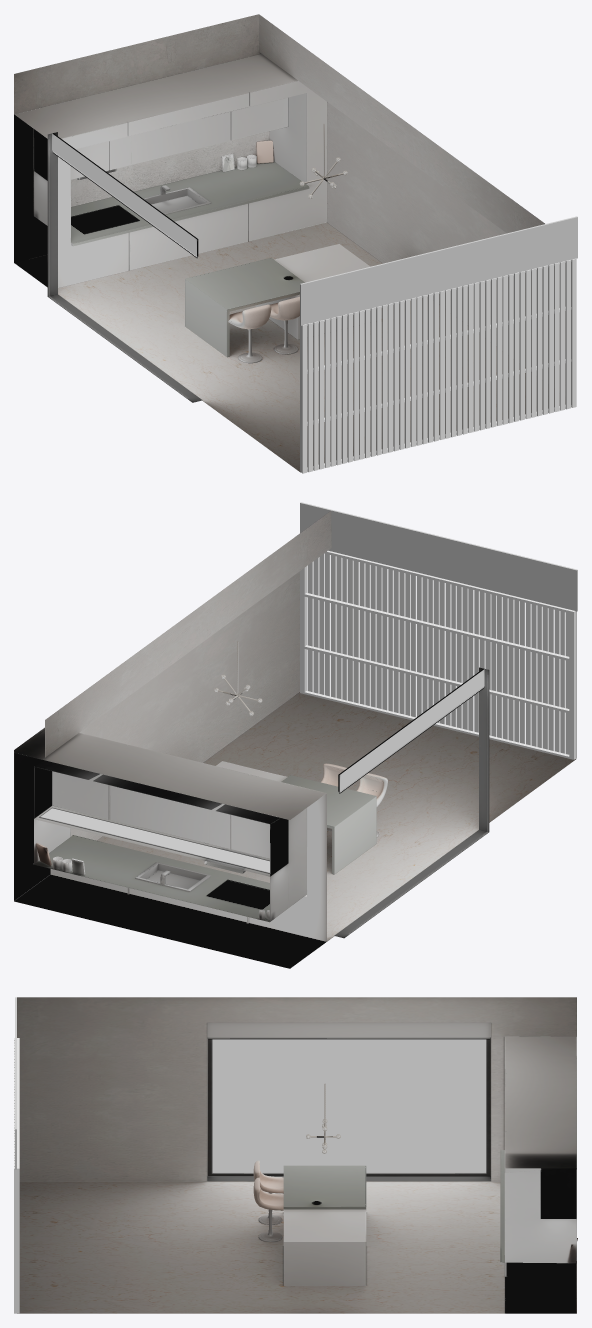
File: RoomLab.glb
3 views of the same model, one above another, from view 1: azimuth 30°, elevation 25°; view 2: azimuth 150°, elevation 25°; view 3: azimuth 270°, elevation 25° (orthographic). The views are drawn at different scales.
Visible parts, largest first — view 1: Small Modern Kitchen, Cube.006, Cube.007; view 2: Small Modern Kitchen, Cube.006, Cube.007, Cube.004, Cube.005, Cube, Cube.002, Cube.001, Cube.003; view 3: Small Modern Kitchen, Cube.003, Cube.006.
Part boxes in pixels (left/top/right/bottom): Small Modern Kitchen: left=14, top=14, right=565, bottom=472; Cube.006: left=302, top=258, right=576, bottom=473; Cube.007: left=300, top=216, right=577, bottom=325; Small Modern Kitchen: left=14, top=511, right=575, bottom=968; Cube.006: left=306, top=553, right=576, bottom=758; Cube.007: left=300, top=502, right=577, bottom=611; Cube.004: left=304, top=593, right=569, bottom=660; Cube.005: left=304, top=645, right=569, bottom=713; Cube: left=300, top=691, right=575, bottom=759; Cube.002: left=324, top=550, right=575, bottom=614; Cube.001: left=569, top=613, right=575, bottom=757; Cube.003: left=300, top=566, right=306, bottom=691; Small Modern Kitchen: left=17, top=997, right=577, bottom=1313; Cube.003: left=15, top=1171, right=19, bottom=1311; Cube.006: left=14, top=1038, right=15, bottom=1313.
Size of the model in its own units: 5.59 by 3.5 by 9.68.
12 materials, 11 textured.
